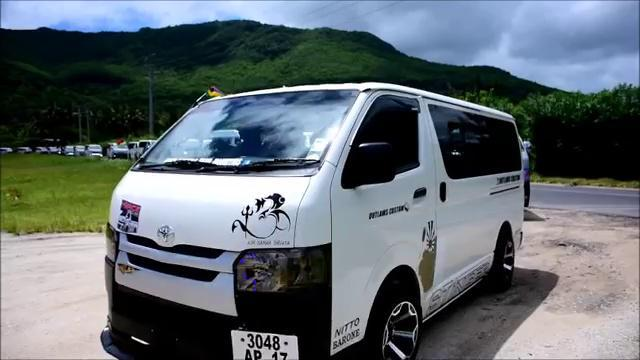van: (102, 83, 537, 360)
